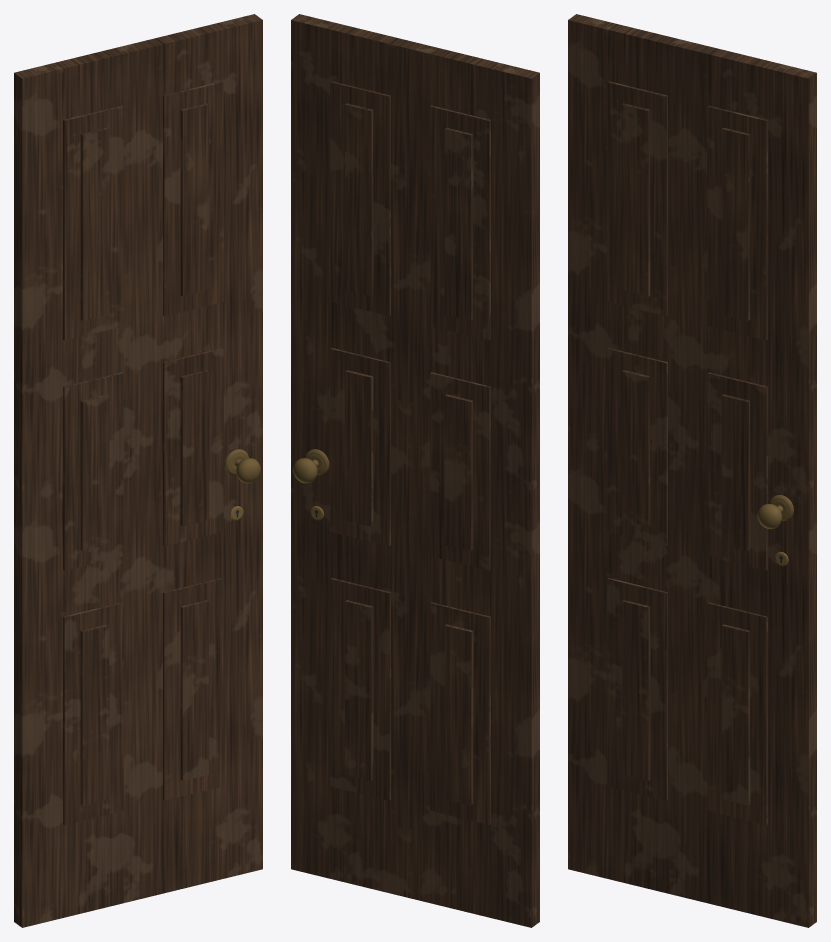
Rendered from SM_FJH_Door_Cupboard.fbx.
3 renders of one model, left to right at view 1: azimuth 30°, elevation 25°; view 2: azimuth 150°, elevation 25°; view 3: azimuth 330°, elevation 25°, orthographic.
Parts seen in each view (by area): view 1: SM_FJH_Door_Cupboard; view 2: SM_FJH_Door_Cupboard; view 3: SM_FJH_Door_Cupboard.
Part boxes in pixels (x1=…): SM_FJH_Door_Cupboard: x1=14, y1=14, x2=262, y2=927; SM_FJH_Door_Cupboard: x1=291, y1=14, x2=539, y2=927; SM_FJH_Door_Cupboard: x1=568, y1=14, x2=816, y2=927.
Size of what is drawn, in the model's own units: 0.59 by 1.99 by 0.179.
3 materials, 2 textured.
